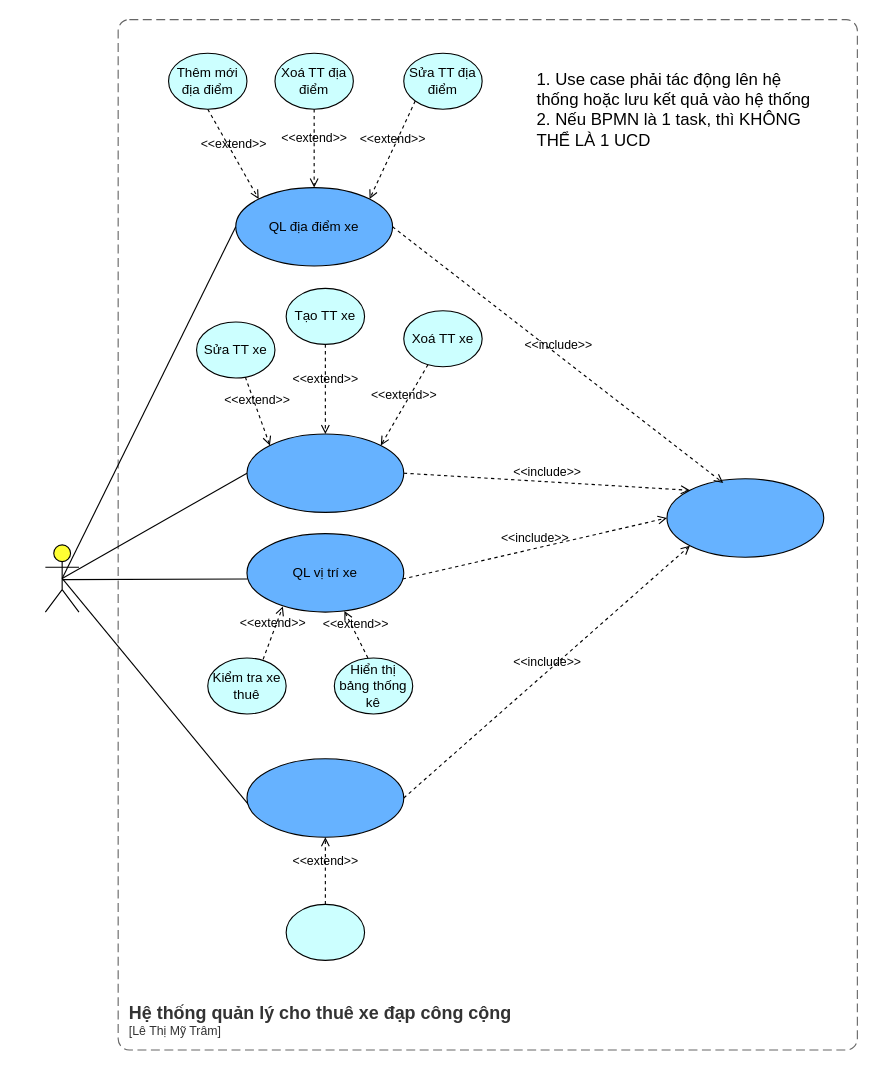
The diagram is 877 pixels wide and 1070 high, and some of its shapes have lost their labels. Here are the shapes that lost their labels. From the top down, the centre of each, then its label:
At (x=325, y=472): "QLTT xe".
At (x=745, y=517): "Đăng nhập".
At (x=61, y=578): "Người quản trị".
At (x=325, y=797): "Quản lý cho thuê xe".
At (x=325, y=931): "Chuyển trạng thái xe".
